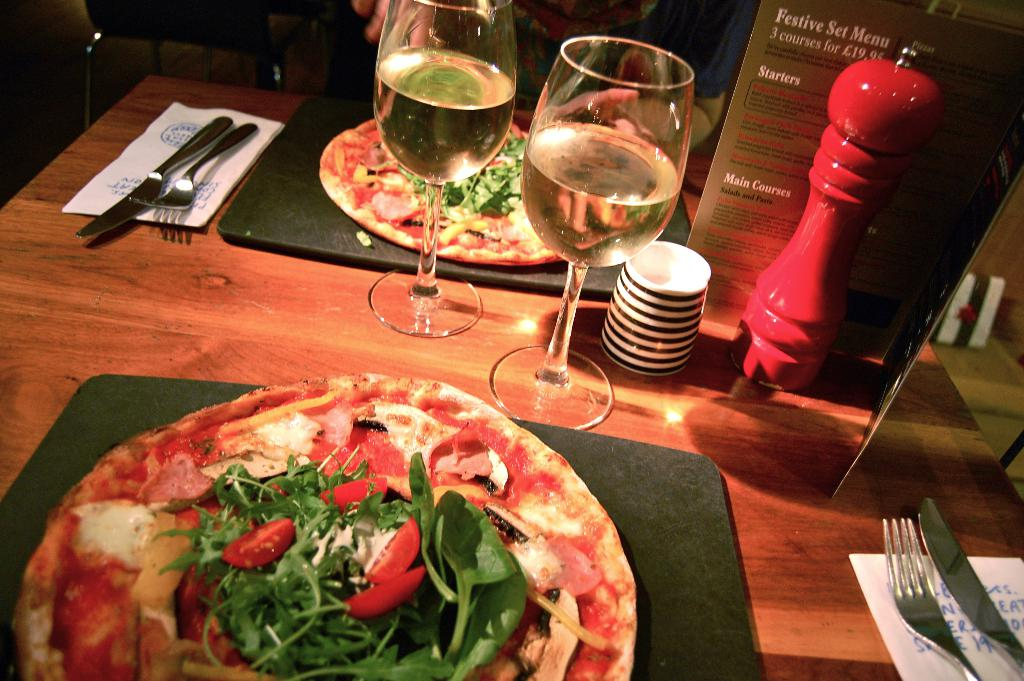Pizza: (13, 362, 639, 680), (308, 101, 588, 272)
